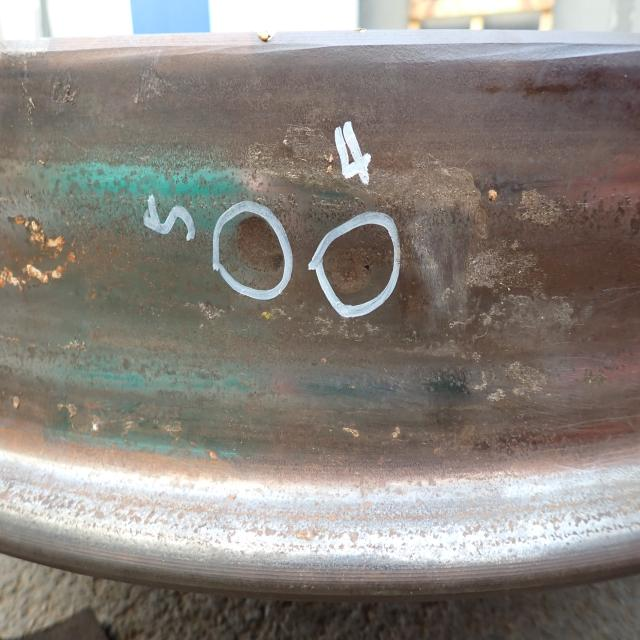geshang: (334, 239, 385, 293), (235, 218, 282, 276)
